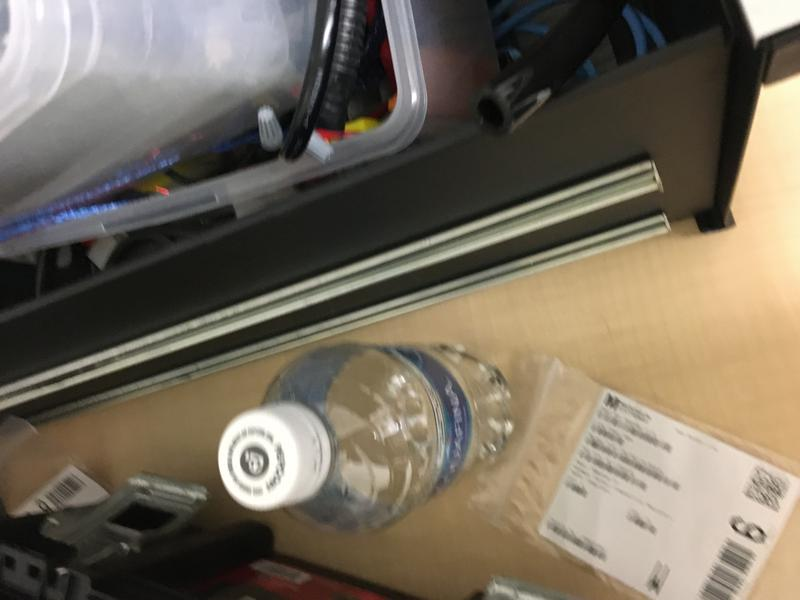bottle: (215, 340, 516, 536)
